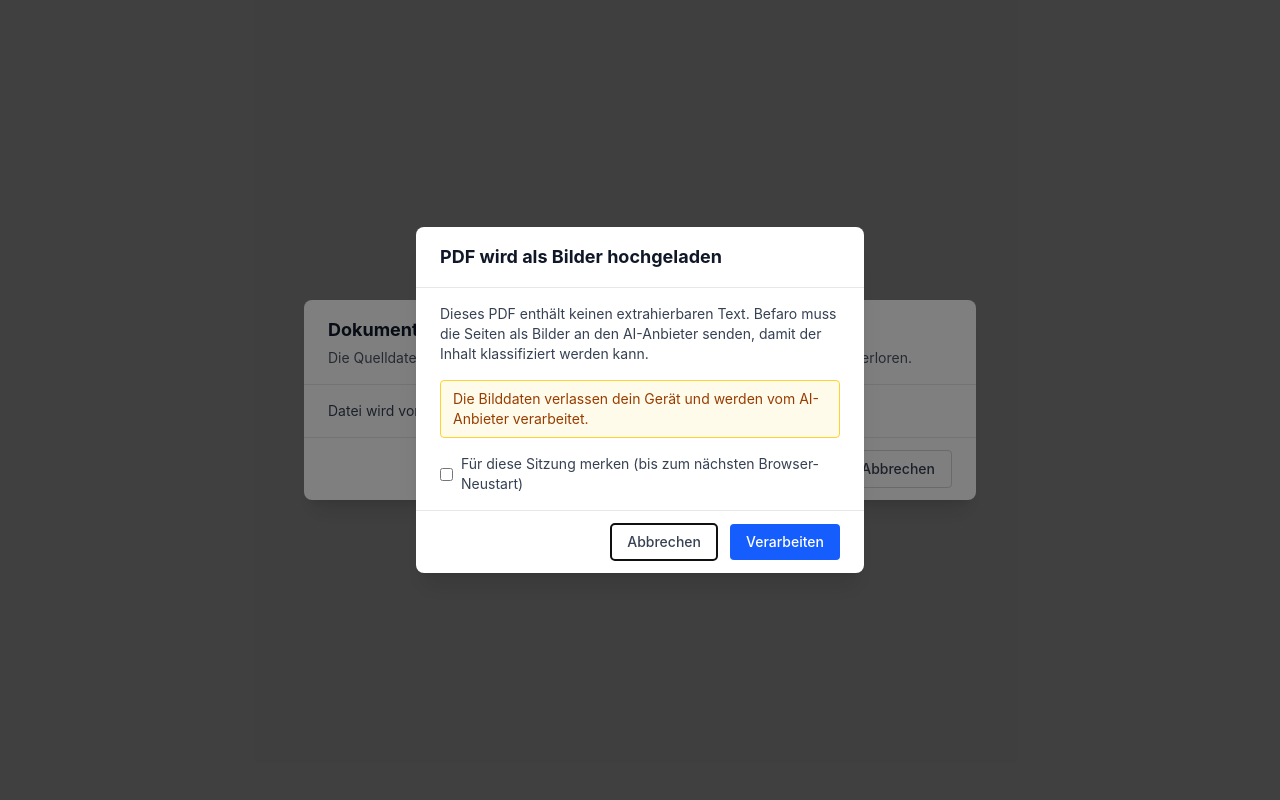
Test: ImportFlow › grants consent and continues to classify+review
Check: the dialog with test id "consent-dialog" is shown, box [416,227,864,573]
Click the button "Verarbeiten" at (785,542), box [730,524,840,560]
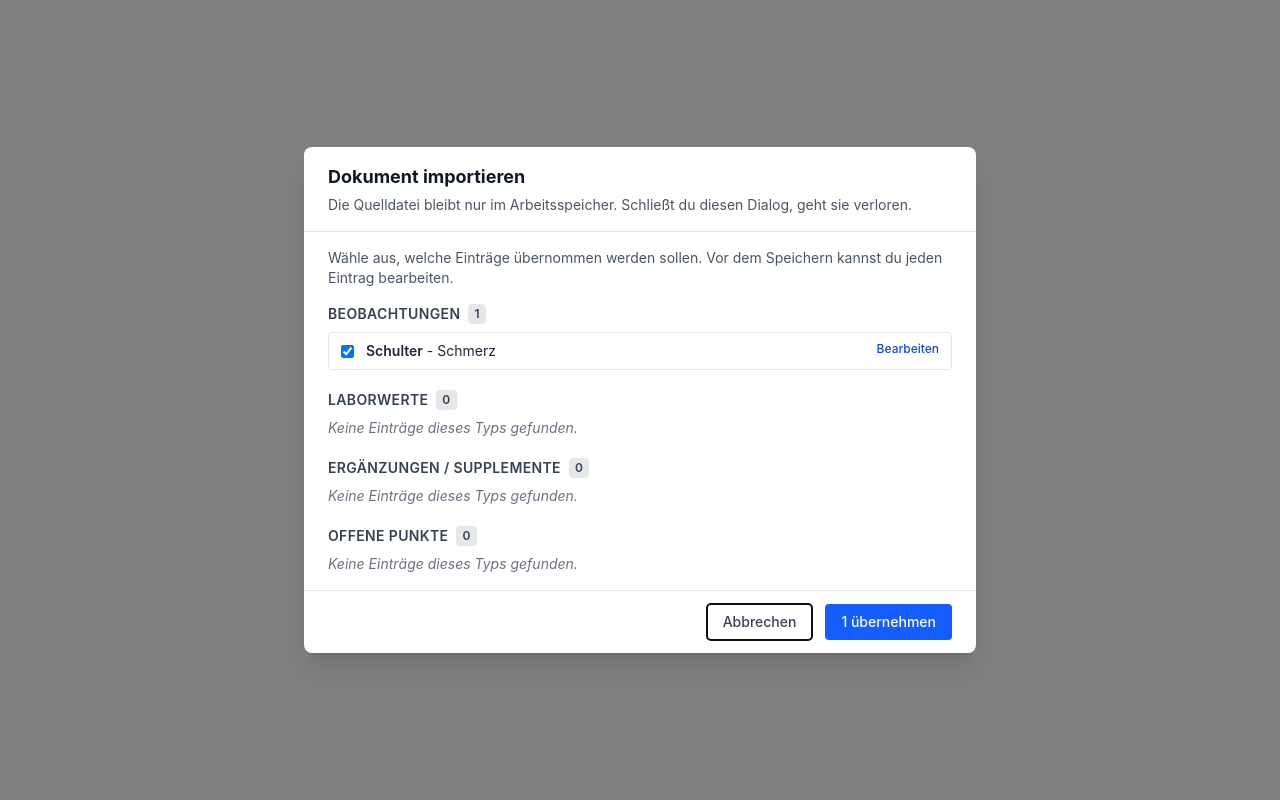
Check: the element with test id "review-panel" is shown, box [328,304,952,574]
